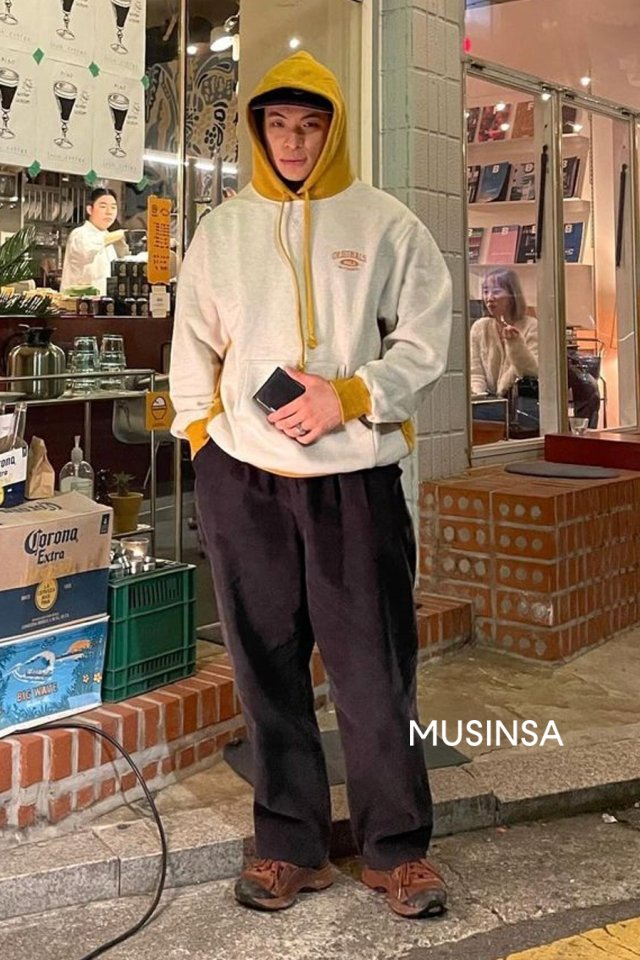Cap: (242, 88, 339, 111)
Hoodie: (144, 37, 455, 487)
Pants: (179, 421, 455, 865)
Shoes: (234, 843, 460, 929)
